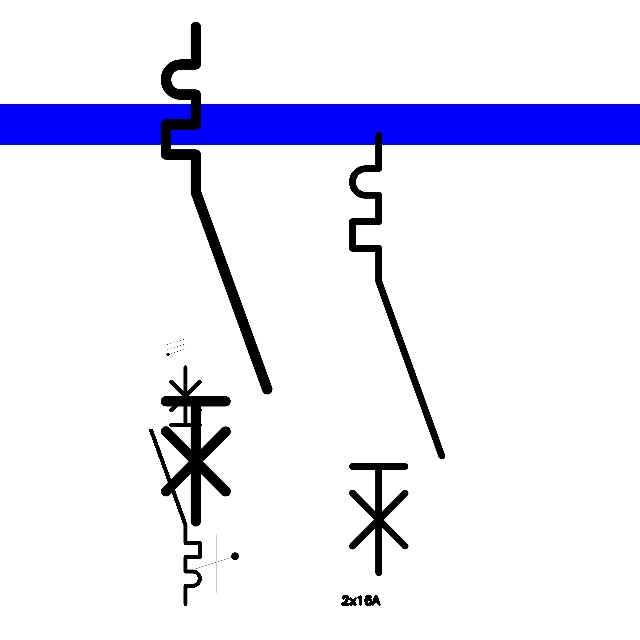interruptor_termomagnetico: (153, 14, 280, 534), (341, 124, 453, 584), (145, 361, 206, 610)
